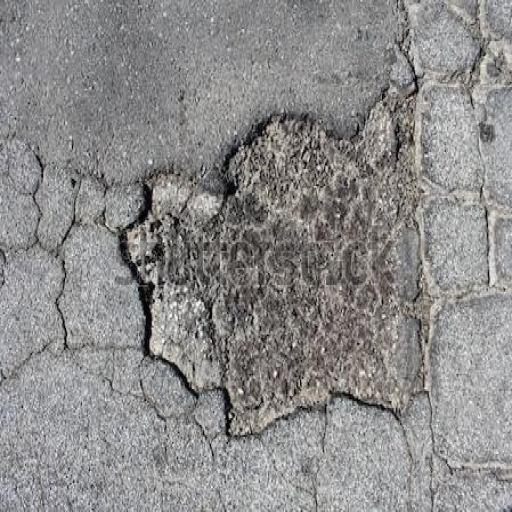pothole: (115, 102, 430, 442)
